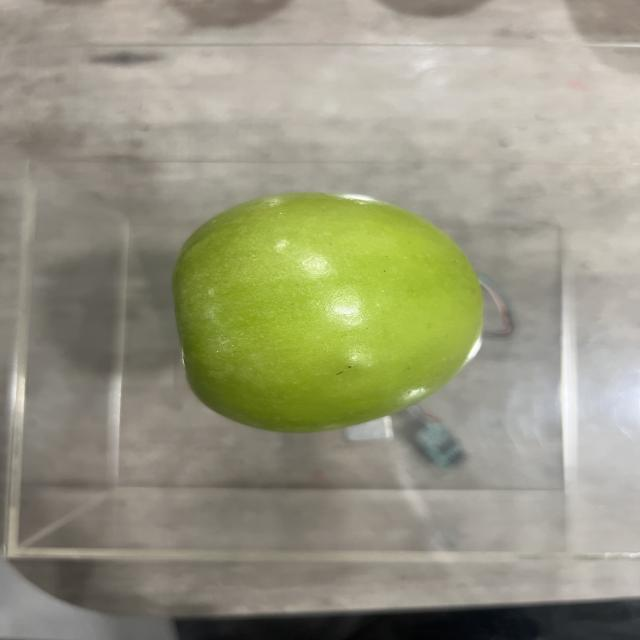green apple: (172, 192, 486, 432)
